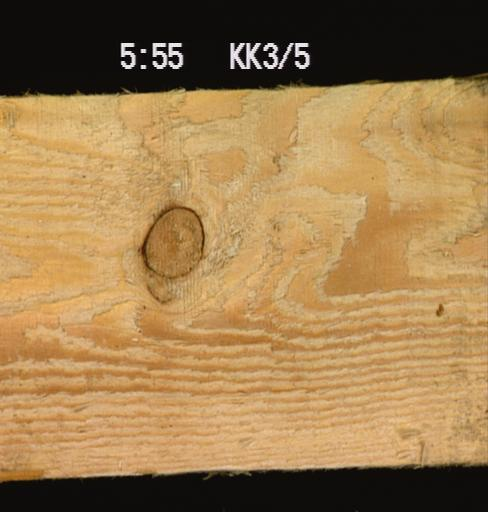dry_knot: (136, 202, 205, 278)
